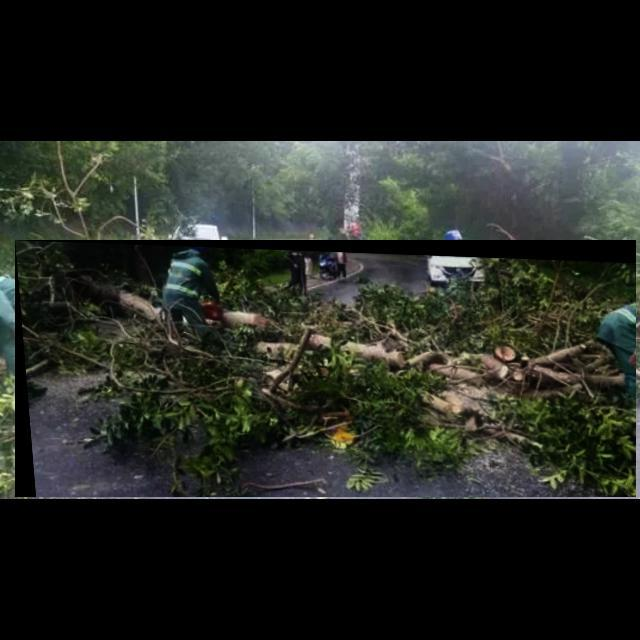fallen_tree: (15, 240, 637, 498)
